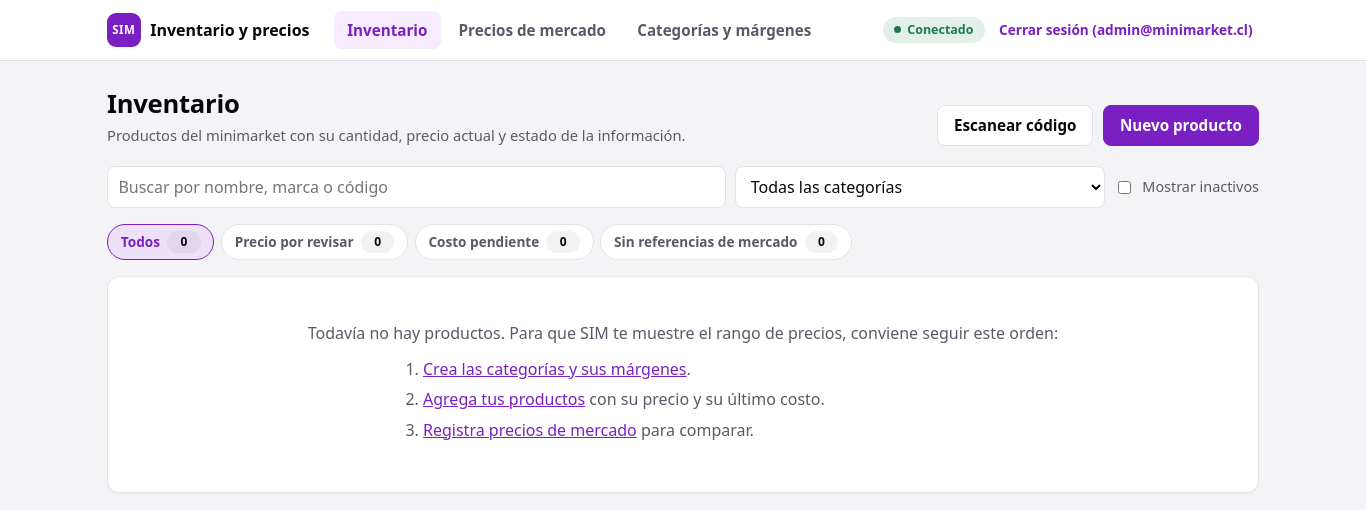
it: App con acceso por Google o enlace mágico (Supabase) › entra con la sesión de Supabase cuando el correo está autorizado y permite cerrarla
This screenshot has width=1366, height=510.
Expected: the text "Conectado" is shown, [883,17,985,43]
Step 1. Click the button "Cerrar sesión (admin@minimarket.cl)" → {"x": 1126, "y": 30}, box [993,17,1259,43]
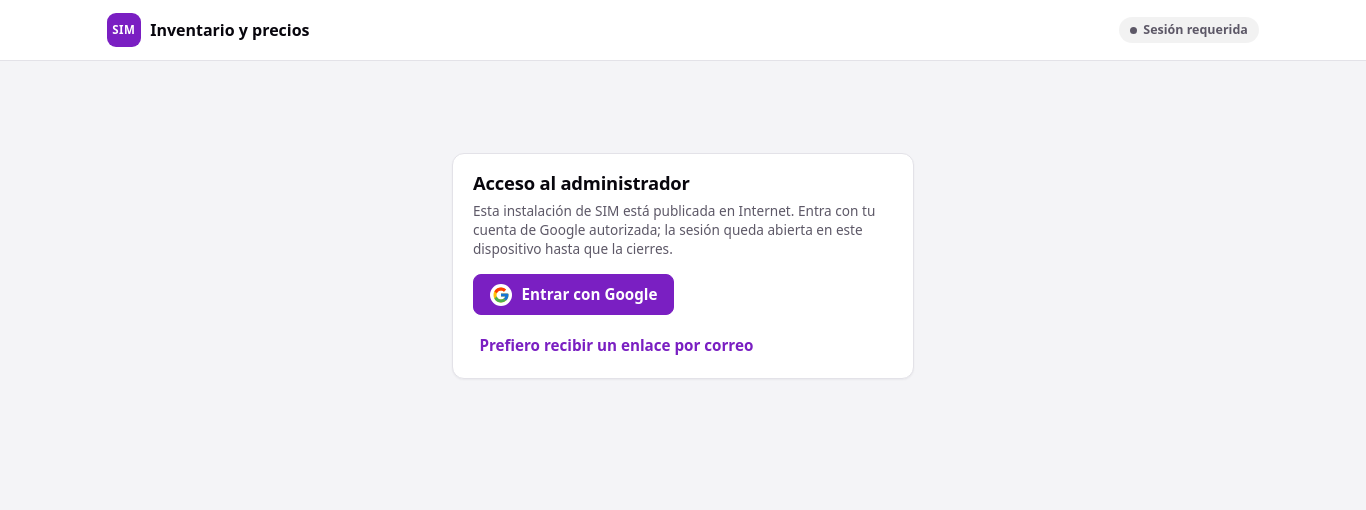
Expected: the heading "Acceso al administrador" is shown, [473,170,690,195]
